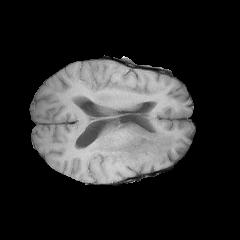glioma: (90, 121, 177, 166)
